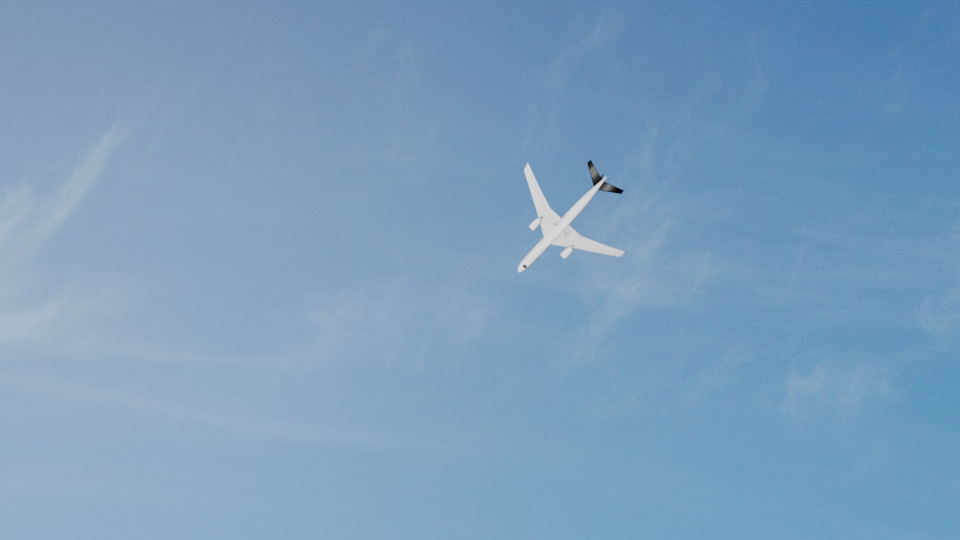plane: (516, 160, 627, 274)
